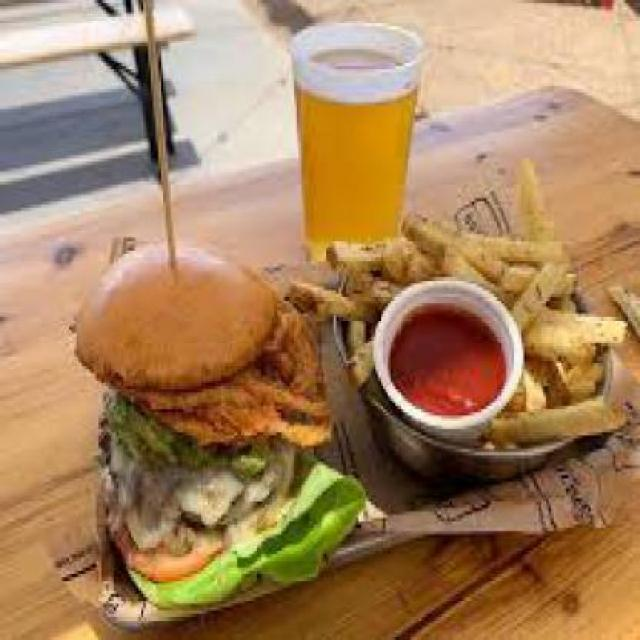french fries: (338, 202, 620, 456)
hamburger: (69, 228, 356, 608)
